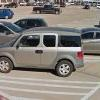Car: (1, 24, 89, 81)
